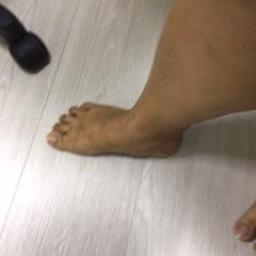Medial View -Right Foot-: (40, 82, 200, 178)
